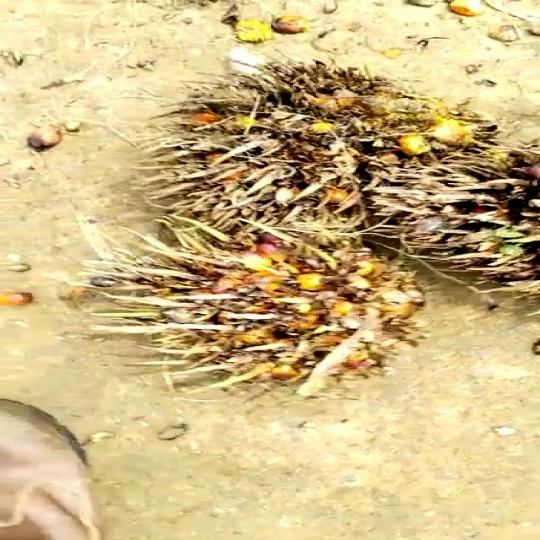terlalu masak: (91, 206, 447, 398), (165, 67, 469, 239)
